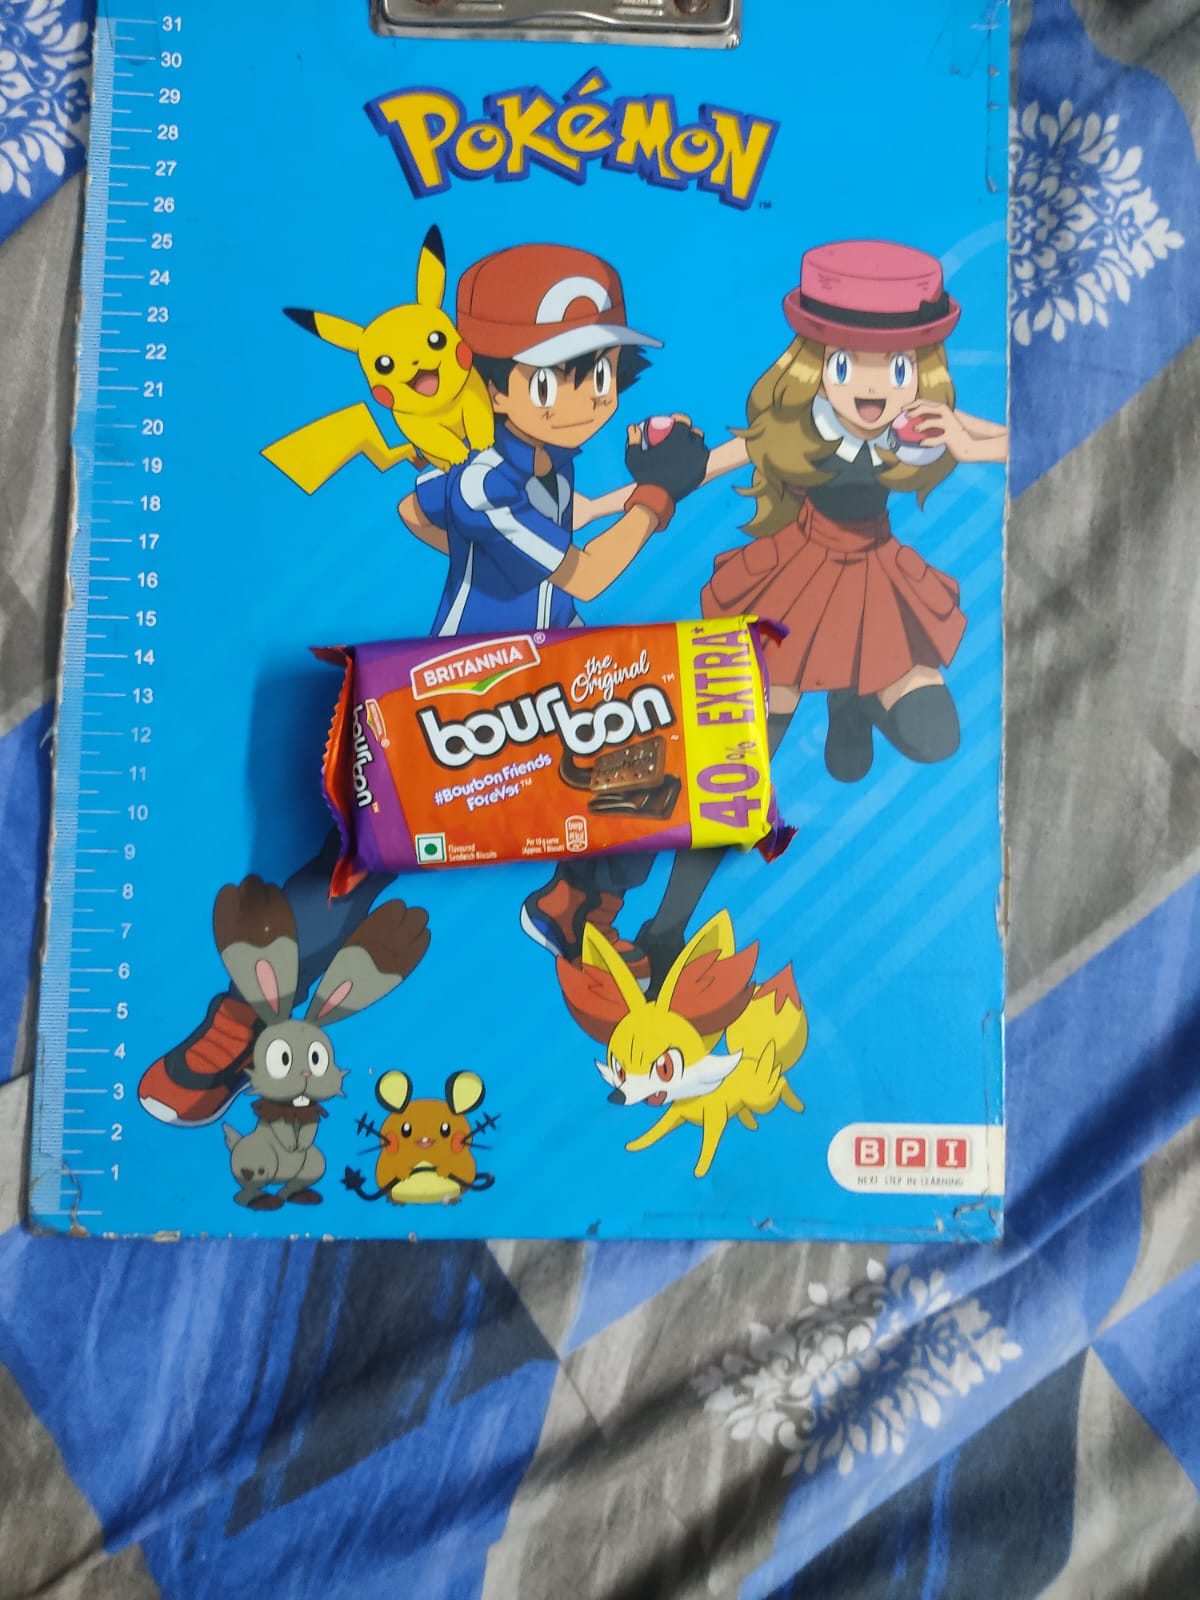010_Bourbon: (333, 619, 788, 879)
